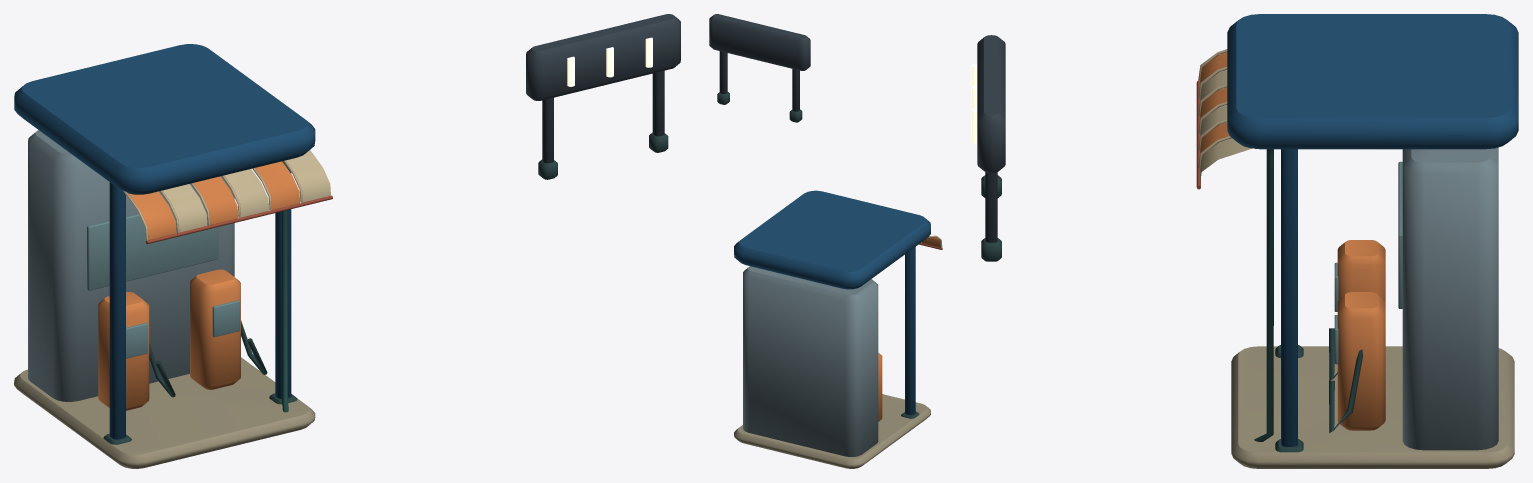
File: metro_charge_4.glb
The picture shows the model from 3 angles, left to right: view 1: azimuth 30°, elevation 25°; view 2: azimuth 150°, elevation 25°; view 3: azimuth 270°, elevation 25°; orthographic projection. The views are drawn at different scales.
Parts seen in each view (by area): view 1: Charge4; view 2: Charge4; view 3: Charge4.
Boxes of the visible parts, x1,y1,x2,y2 form: Charge4: [14, 14, 680, 468]; Charge4: [709, 14, 942, 468]; Charge4: [971, 14, 1518, 468].
Size of the model in its own units: 5.28 by 4.8 by 4.79.
